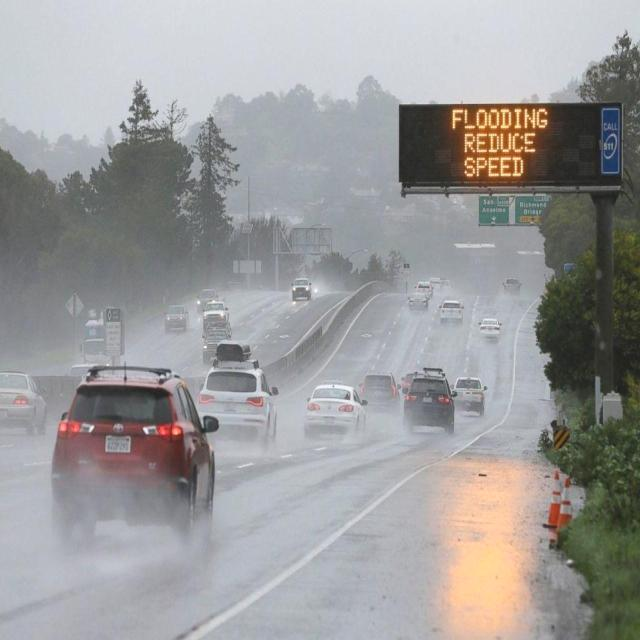Car: (50, 356, 216, 547), (196, 344, 280, 448), (303, 382, 369, 443), (403, 367, 458, 435), (0, 371, 48, 435), (360, 372, 400, 413), (452, 376, 488, 416), (201, 321, 233, 366), (202, 299, 231, 331), (70, 363, 110, 384), (164, 304, 190, 333), (439, 298, 465, 324), (478, 318, 503, 342), (196, 288, 220, 312), (291, 277, 313, 301), (408, 292, 430, 312), (414, 281, 434, 300), (502, 277, 523, 294)
